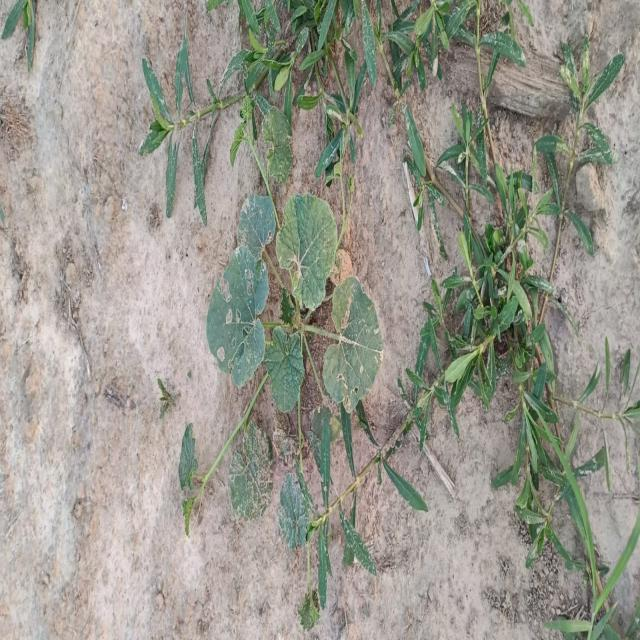plant: (207, 192, 338, 411), (323, 276, 383, 410)
